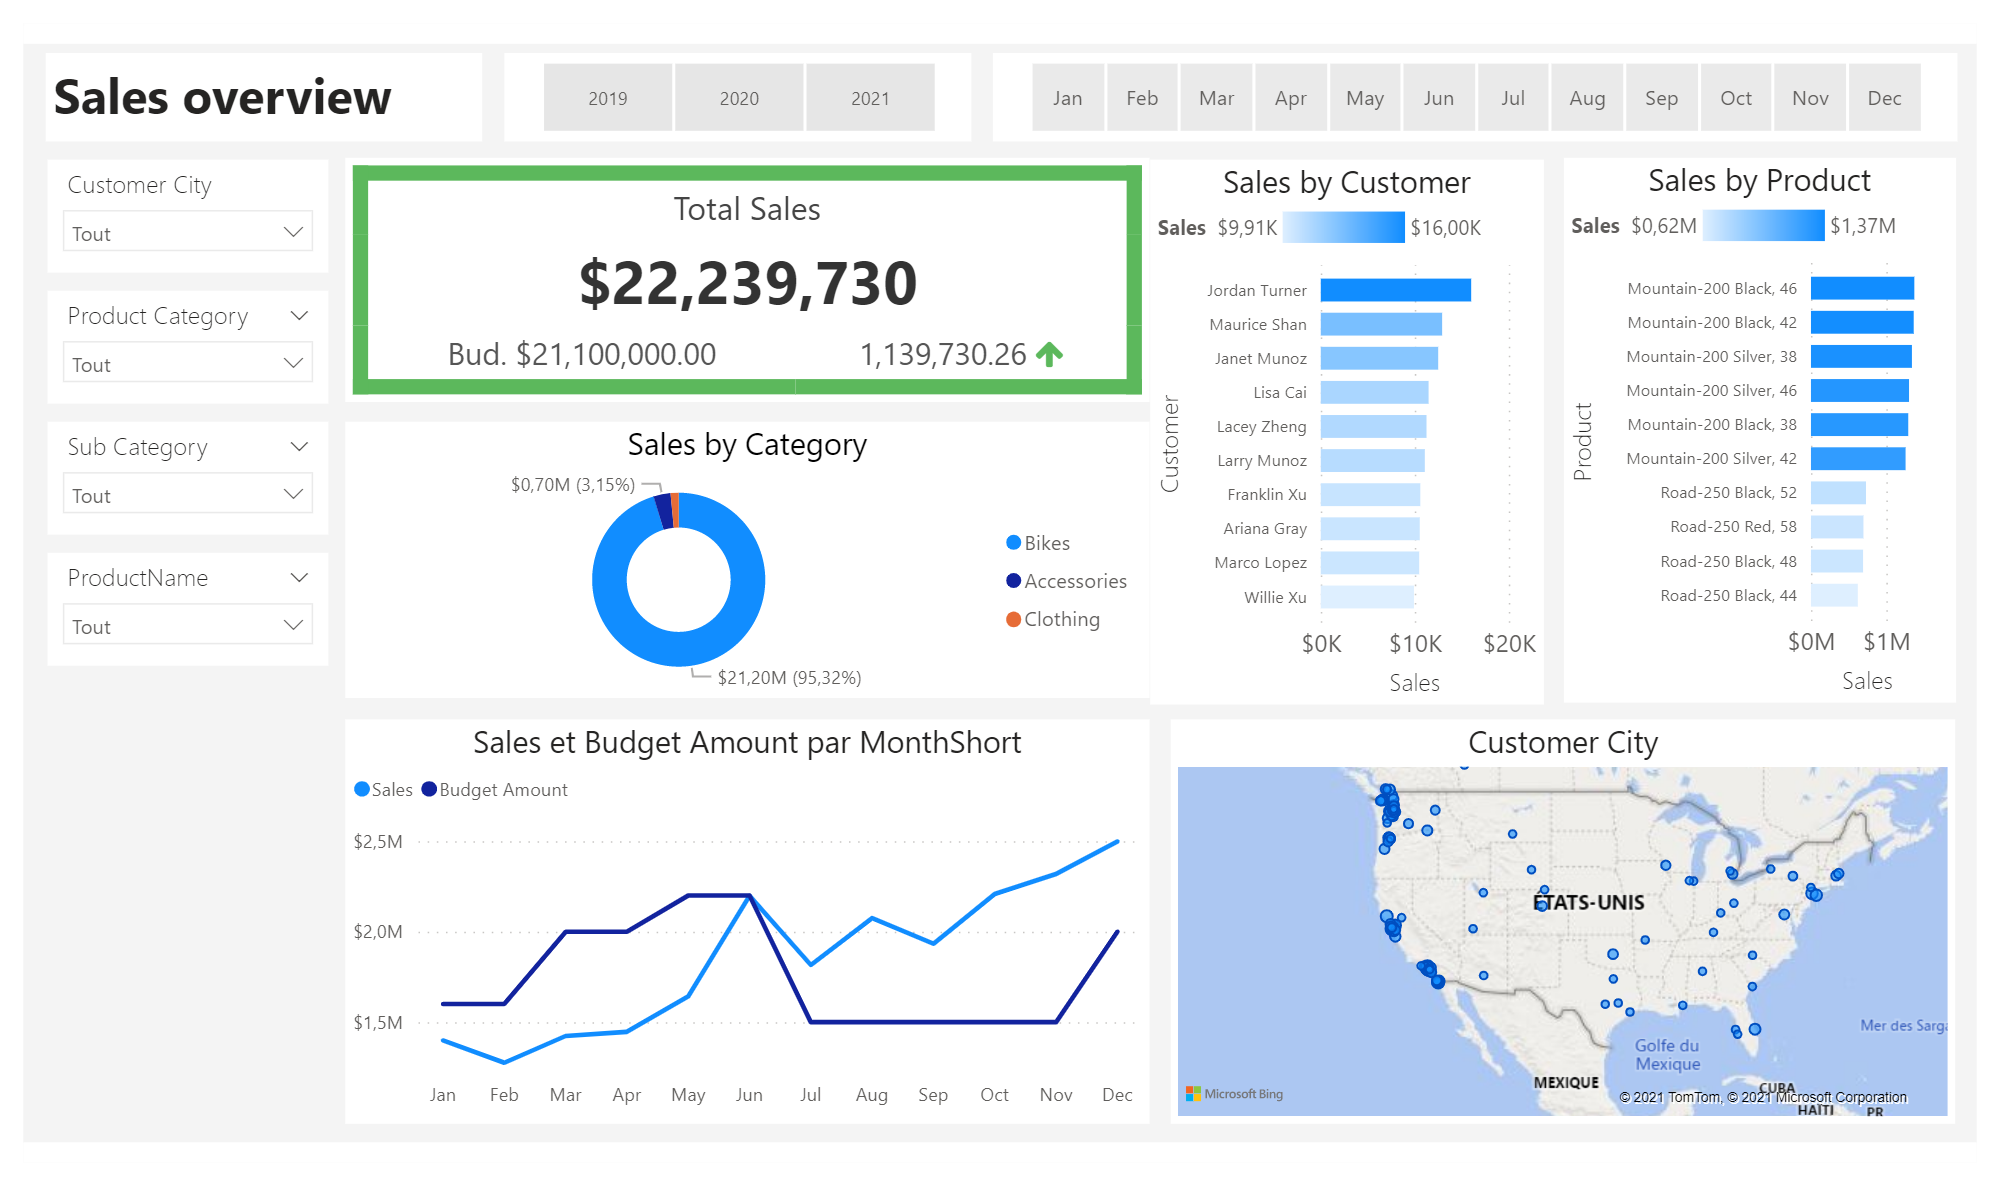

The dashboard page shown, as its layout file describes it:
{"tool":"powerbi","page":{"name":"Sales","canvas":[1280,720],"ordinal":0},"visuals":[{"type":"textbox","title":"Sales overview","box":[15.2,5.9,286.2,58.1],"z":0},{"type":"slicer","fields":{"Values":["dim_calendar.Year"]},"box":[315.1,6.6,306.2,57.9],"z":1000},{"type":"slicer","fields":{"Values":["dim_calendar.MonthShort"]},"box":[635.1,6.6,631.7,57.9],"z":2000},{"type":"slicer","fields":{"Values":["dim_customer.CustomerCity"]},"box":[15.4,76,184,73.6],"z":3000},{"type":"slicer","fields":{"Values":["dim_product.ProductCategory"]},"box":[15.4,161.9,184,73.6],"z":4000},{"type":"slicer","fields":{"Values":["dim_product.SubCategory"]},"box":[15.4,247.8,184,73.6],"z":5000},{"type":"slicer","fields":{"Values":["dim_product.ProductName"]},"box":[15.4,333.6,184,73.6],"z":6000},{"type":"BBED0A4D4D8D44CE93CF2DAFADEE466C","fields":{"actual":["fact_internet_sales.Sales"],"target1":["Budget.Budget Amount"],"target2":["Budget.Sales - Budget Amount"]},"box":[211,74.5,526.9,160],"z":7000},{"type":"donutChart","title":"Sales by Category","fields":{"Y":["Key Measurements.Sales"],"Category":["dim_product.ProductCategory"]},"box":[211,248.3,526.9,180.7],"z":8000},{"type":"lineChart","fields":{"Y":["Key Measurements.Sales","Key Measurements.Budget Amount"],"Category":["dim_calendar.MonthShort"]},"box":[211,442.8,526.9,264.8],"z":9000},{"type":"barChart","title":"Sales by Customer","fields":{"Y":["Key Measurements.Sales"],"Category":["dim_customer.FullName"]},"box":[738.4,76,257.6,356.9],"z":10000},{"type":"barChart","title":"Sales by Product","fields":{"Y":["Key Measurements.Sales"],"Category":["dim_product.ProductName"]},"box":[1009.7,74.5,256.6,357.2],"z":11000},{"type":"map","title":"Customer City","fields":{"Category":["dim_customer.CustomerCity"],"Size":["Key Measurements.Sales"]},"box":[751.7,442.8,514.5,264.8],"z":12000}]}

Visuals, with their boxes on the page's 1280x720 design canvas (x1, y1, x2, y2). These are canvas units, not pixel positions in the 2000x1186 screenshot, which may show the page scaled, cropped or inside an application window:
"Sales overview" textbox: (15,6,301,64)
slicer - dim_calendar.Year: (315,7,621,64)
slicer - dim_calendar.MonthShort: (635,7,1267,64)
slicer - dim_customer.CustomerCity: (15,76,199,150)
slicer - dim_product.ProductCategory: (15,162,199,236)
slicer - dim_product.SubCategory: (15,248,199,321)
slicer - dim_product.ProductName: (15,334,199,407)
BBED0A4D4D8D44CE93CF2DAFADEE466C - fact_internet_sales.Sales x Budget.Budget Amount: (211,74,738,234)
"Sales by Category" donutChart: (211,248,738,429)
lineChart - Key Measurements.Sales x Key Measurements.Budget Amount: (211,443,738,708)
"Sales by Customer" barChart: (738,76,996,433)
"Sales by Product" barChart: (1010,74,1266,432)
"Customer City" map: (752,443,1266,708)
